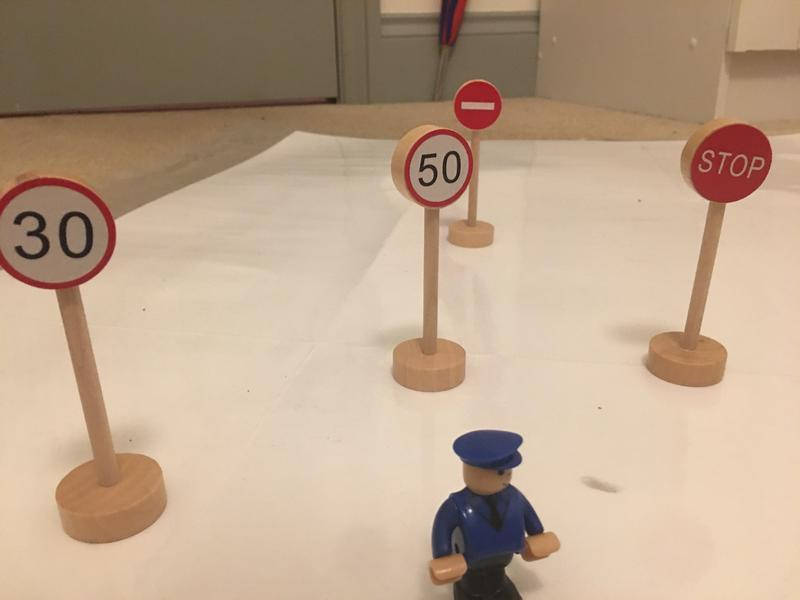Traffic_Sign_30: (4, 177, 116, 289)
Traffic_Sign_50: (406, 129, 471, 210)
Traffic_Sign_No_Entry: (453, 80, 501, 132)
Traffic_Sign_Stop: (690, 121, 772, 203)
person: (425, 420, 561, 600)
